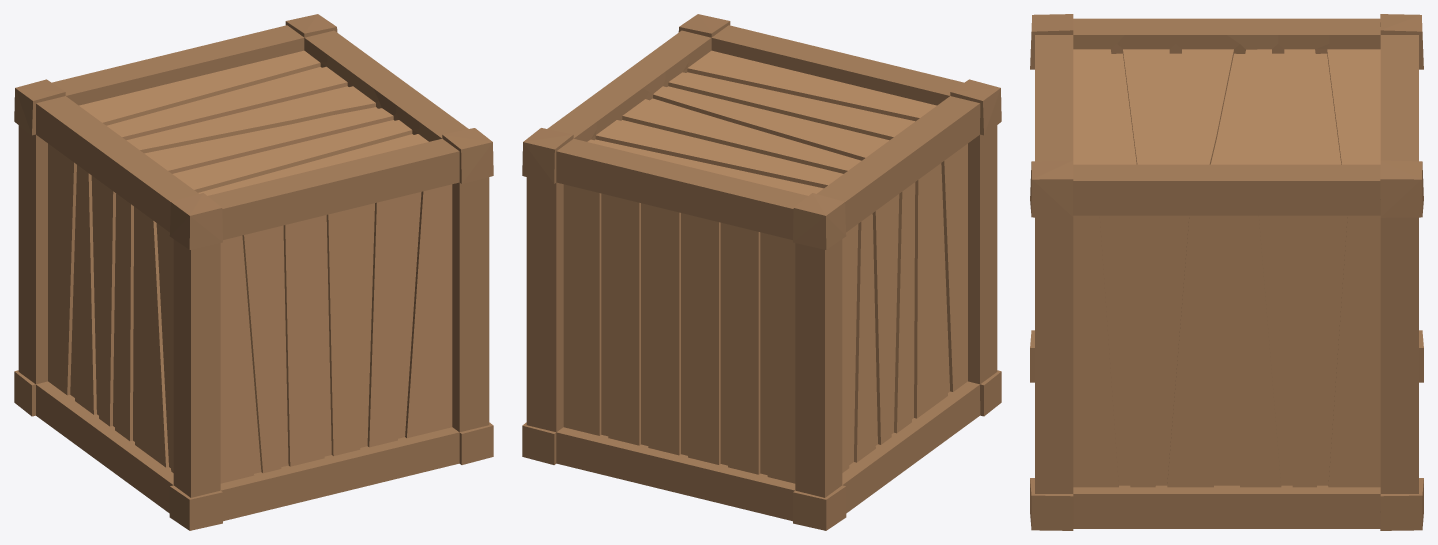
Rendered from woodBox.fbx.
3 renders of one model, left to right at view 1: azimuth 30°, elevation 25°; view 2: azimuth 150°, elevation 25°; view 3: azimuth 270°, elevation 25°, orthographic. The views are drawn at different scales.
Visible parts, largest first — view 1: WoodBox; view 2: WoodBox; view 3: WoodBox.
Boxes of the visible parts, x1,y1,x2,y2 form: WoodBox: [14, 14, 493, 530]; WoodBox: [522, 14, 1001, 530]; WoodBox: [1030, 14, 1423, 530].
Bounding box in the file's own units: 205 × 203 × 205.
